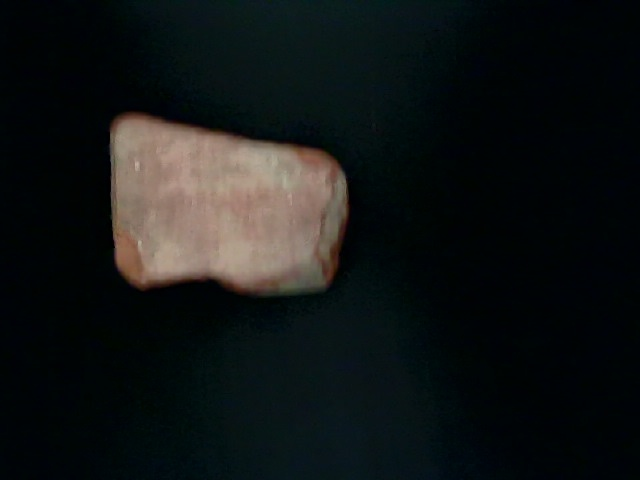KHSLJ: (133, 1, 466, 269)
